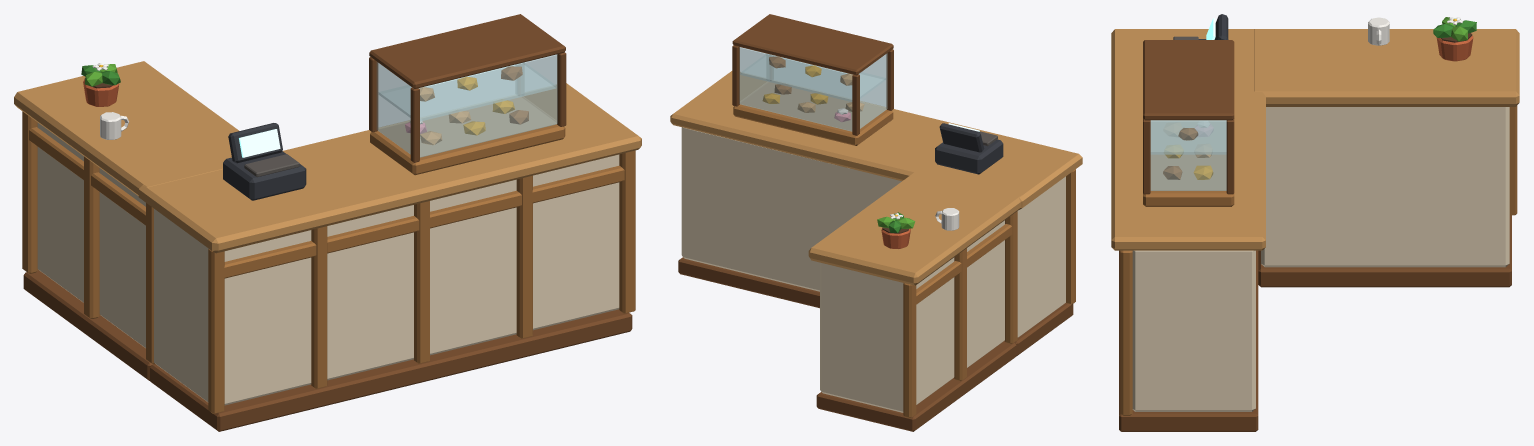
File: cafe_counter.glb
The picture shows the model from 3 angles, left to right: view 1: azimuth 30°, elevation 25°; view 2: azimuth 150°, elevation 25°; view 3: azimuth 270°, elevation 25°; orthographic projection. The views are drawn at different scales.
Visible parts, largest first — view 1: cafe_counter; view 2: cafe_counter; view 3: cafe_counter.
Part boxes in pixels (x1,y1,x2,y2): cafe_counter: [14, 14, 641, 431]; cafe_counter: [670, 14, 1082, 431]; cafe_counter: [1111, 14, 1519, 431].
Bounding box in the file's own units: 1.97 × 1.27 × 1.61.
